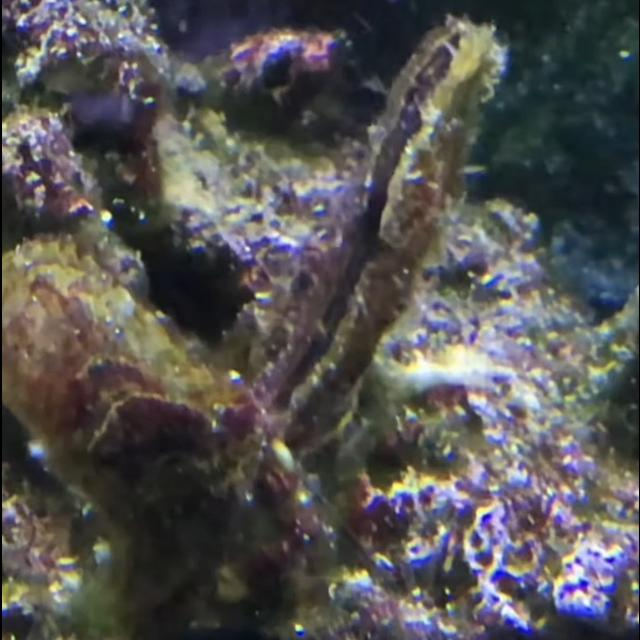Oyster-Closed: (1, 236, 303, 602)
Oyster-Open: (222, 19, 506, 459)
